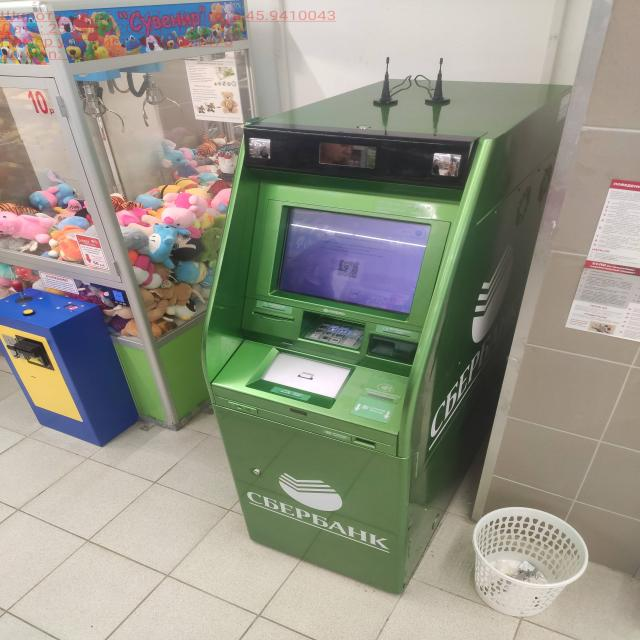bank: (204, 76, 576, 599)
